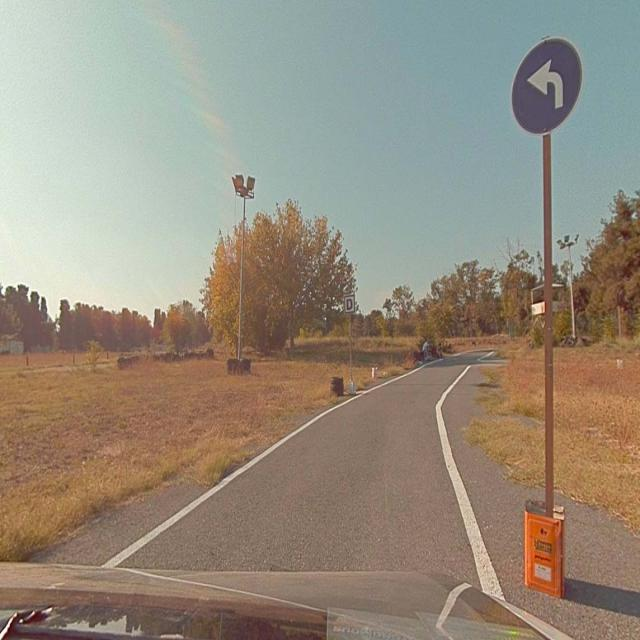durak: (344, 294, 354, 313)
sol: (511, 38, 582, 130)
